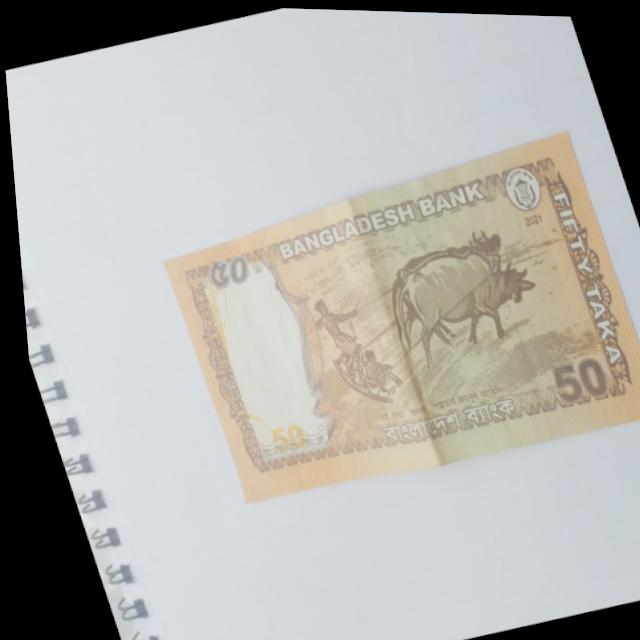Taka: (135, 125, 640, 529)
